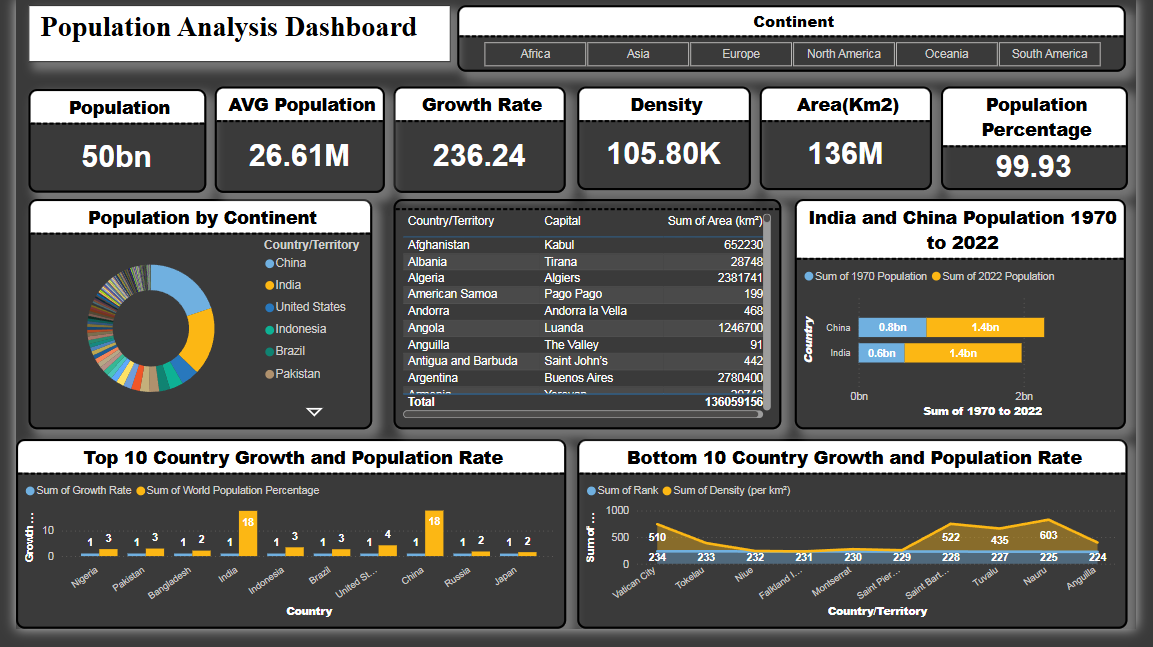

The page's visual inventory and layout, read from the dashboard file:
{"tool":"powerbi","page":{"name":"Population Analyst","canvas":[1280,720],"ordinal":0},"visuals":[{"type":"textbox","box":[13.8,7.5,482.5,65],"z":0},{"type":"card","title":"Population","fields":{"Values":["world_population.TOTAL POPULATION"]},"box":[14.3,102.9,202.9,118.6],"z":1000},{"type":"card","title":"Growth Rate","fields":{"Values":["Sum(world_population.Growth Rate)"]},"box":[431.4,100,197.1,121.4],"z":2000},{"type":"card","title":"Density","fields":{"Values":["Sum(world_population.Density (per km²))"]},"box":[641.4,100,198.6,118.6],"z":3000},{"type":"card","title":"Area(Km2)","fields":{"Values":["Sum(world_population.Area (km²))"]},"box":[850,100,196.7,118.3],"z":4000},{"type":"slicer","title":"Continent","fields":{"Values":["world_population.Continent"]},"box":[504.3,7.1,764.3,75.7],"z":5000},{"type":"card","title":"Population Percentage","fields":{"Values":["Sum(world_population.World Population Percentage)"]},"box":[1056.7,100,213.3,118.3],"z":6000},{"type":"donutChart","title":"Population by Continent","fields":{"Y":["world_population.TOTAL POPULATION"],"Category":["world_population.Country/Territory"]},"box":[14.3,228.6,392.9,262.9],"z":7000},{"type":"clusteredColumnChart","title":"Top 10 Country Growth and Population Rate ","fields":{"Category":["world_population.Country/Territory"],"Y":["Sum(world_population.Growth Rate)","Sum(world_population.World Population Percentage)"]},"box":[0,502.9,628.6,217.1],"z":8000},{"type":"stackedAreaChart","title":"Bottom 10 Country Growth and Population Rate","fields":{"Category":["world_population.Country/Territory"],"Y":["Sum(world_population.Rank)","Sum(world_population.Density (per km²))"]},"box":[641.4,502.9,628.6,217.1],"z":9000},{"type":"card","title":"AVG Population","fields":{"Values":["world_population.AveragePopulation"]},"box":[227.1,100,194.3,121.4],"z":10000},{"type":"tableEx","fields":{"Values":["world_population.Country/Territory","world_population.Capital","Sum(world_population.Area (km²))"]},"box":[431.4,228.6,442.9,262.9],"z":11000},{"type":"barChart","title":"India and China Population 1970 to 2022","fields":{"Y":["Sum(world_population.1970 Population)","Sum(world_population.2022 Population)"],"Category":["world_population.Country/Territory"]},"box":[890,228.6,378.6,262.9],"z":12000}]}

Visuals, with their boxes in screenshot pixels (x1, y1, x2, y2), scaled from the page's 1280x720 canvas onto the 1153x647 screenshot:
textbox: 12/7/447/65
"Population" card: 13/92/196/199
"Growth Rate" card: 389/90/566/199
"Density" card: 578/90/757/196
"Area(Km2)" card: 766/90/943/196
"Continent" slicer: 454/6/1143/74
"Population Percentage" card: 952/90/1144/196
"Population by Continent" donutChart: 13/205/367/442
"Top 10 Country Growth and Population Rate " clusteredColumnChart: 0/452/566/646
"Bottom 10 Country Growth and Population Rate" stackedAreaChart: 578/452/1144/646
"AVG Population" card: 205/90/380/199
tableEx - world_population.Country/Territory x world_population.Capital: 389/205/788/442
"India and China Population 1970 to 2022" barChart: 802/205/1143/442
